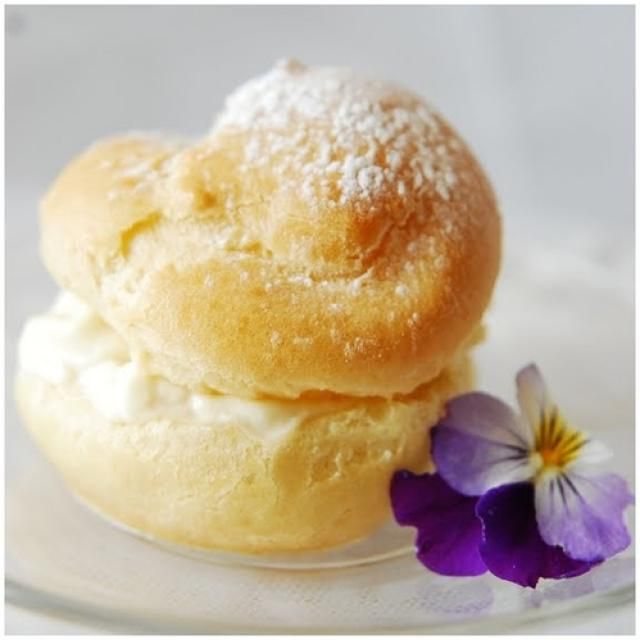炸货点心: (23, 42, 520, 564)
蛋糕甜品: (23, 42, 520, 564)
